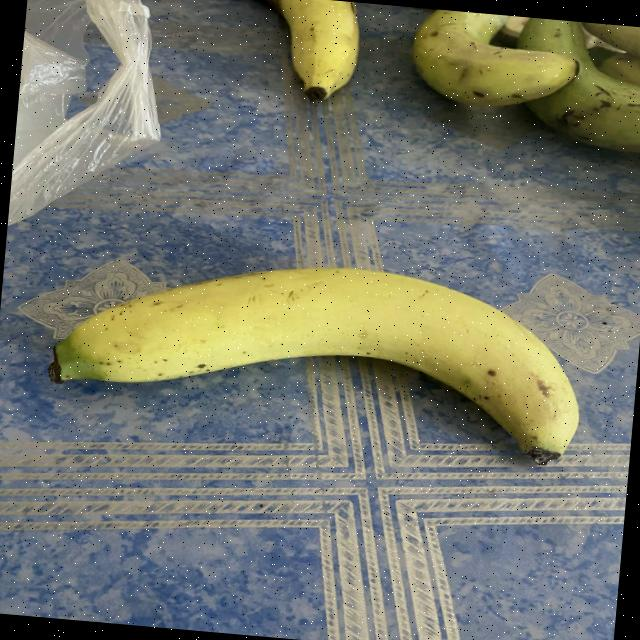Ripe: (35, 211, 640, 459)
